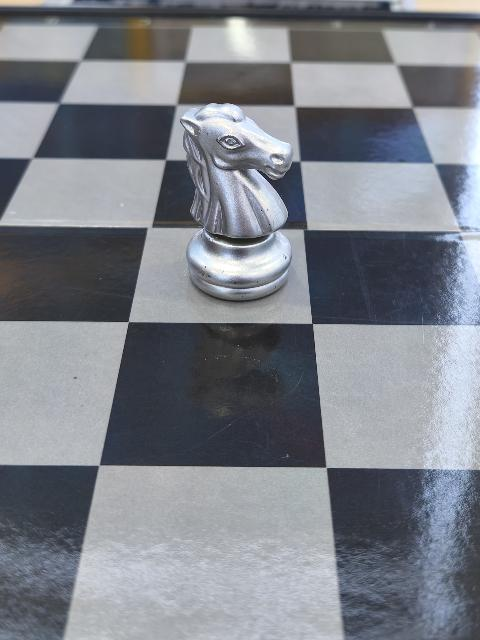white_knight: (178, 102, 298, 298)
